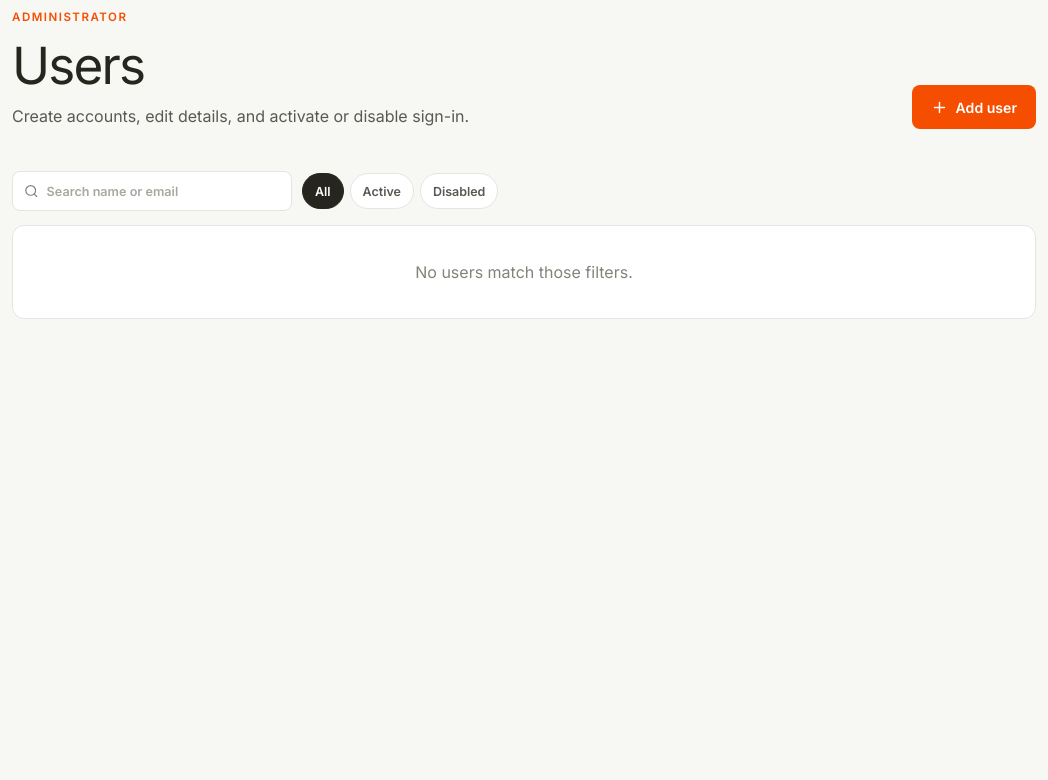
Test: critical user flows › opens a guided form for adding a platform user
Click the button "Add user".
click(974, 107)  # box x1=912 y1=85 x2=1036 y2=129
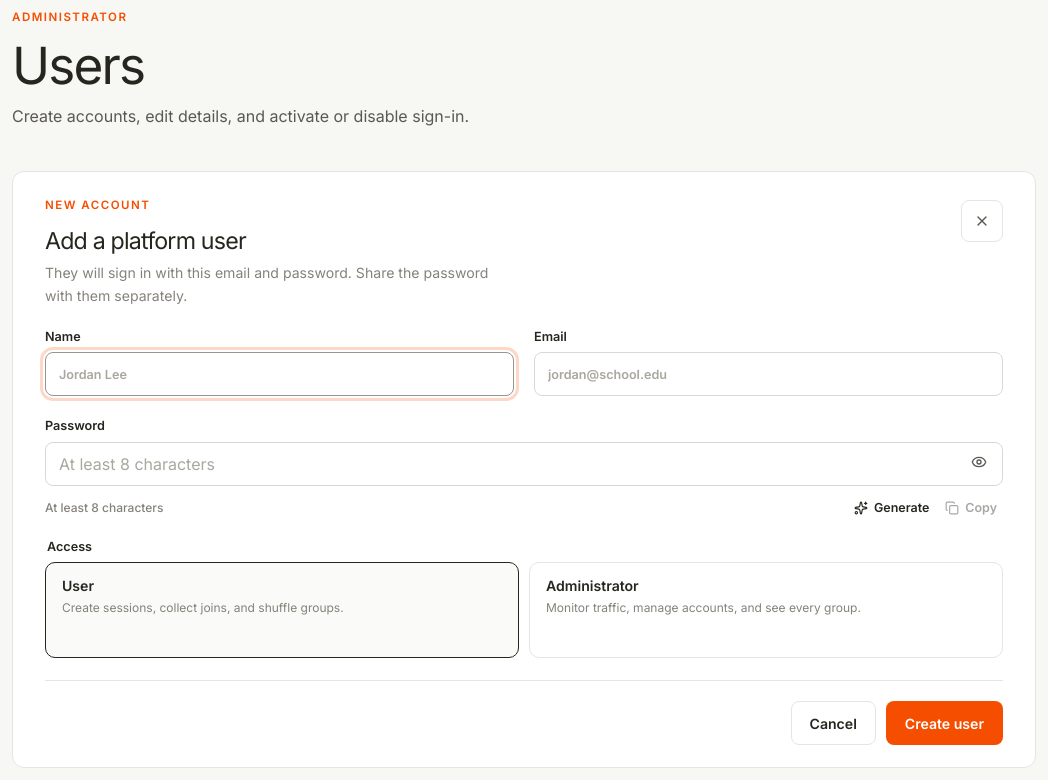
Now the heading "Add a platform user" is shown, box x1=45 y1=227 x2=246 y2=255
Now the radio button labelled "User Create sessions, collect joins, and shuffle groups." is checked, box x1=45 y1=562 x2=519 y2=658
Now the radio button labelled "Monitor traffic" is not checked, box x1=529 y1=562 x2=1003 y2=658
Click the button "Generate".
click(892, 508)  # box x1=848 y1=494 x2=935 y2=521
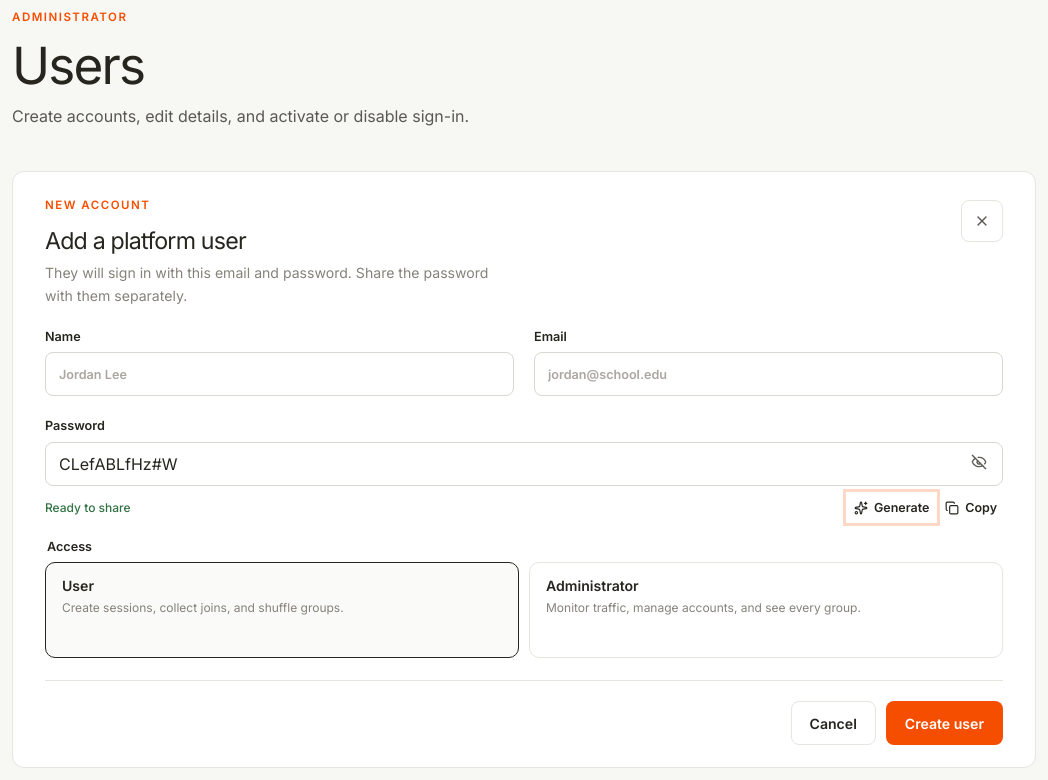
Click the button "Cancel".
click(833, 723)  # box x1=790 y1=701 x2=876 y2=745
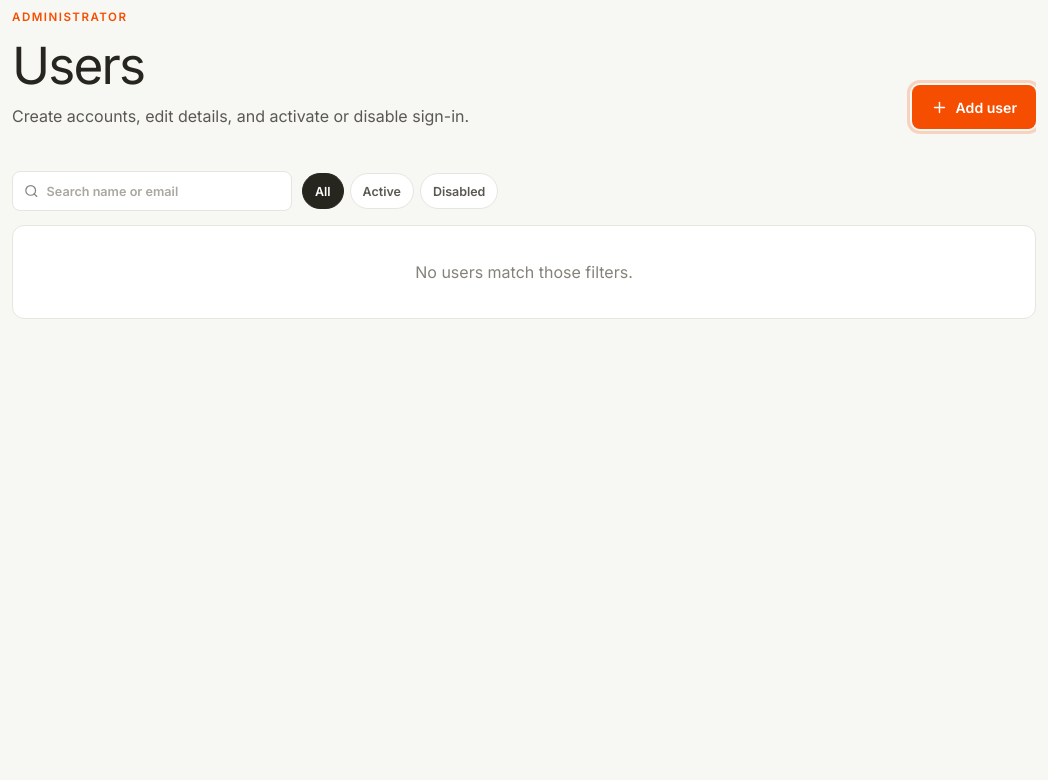
Now the button "Add user" is shown, box x1=912 y1=85 x2=1036 y2=129
